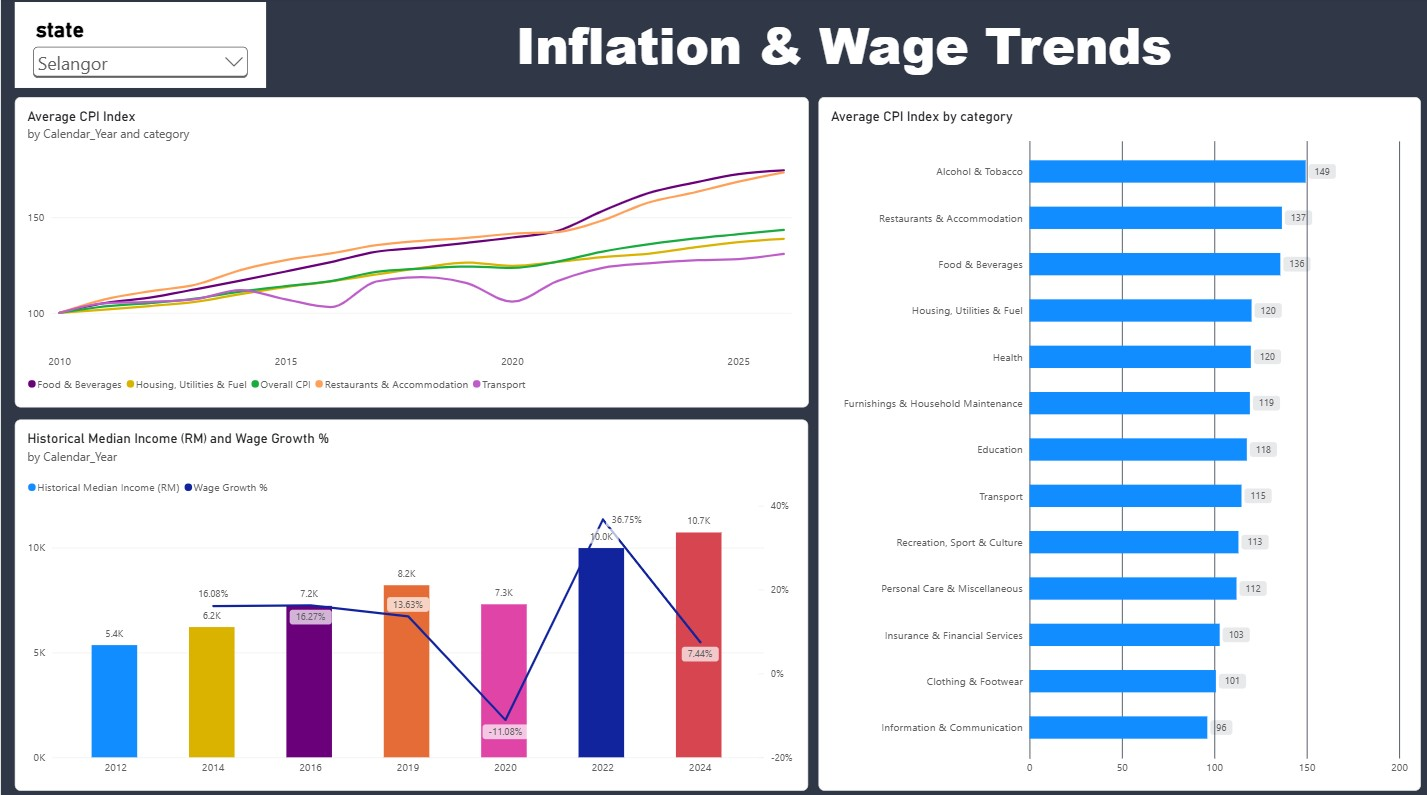

The dashboard page shown, as its layout file describes it:
{"tool":"powerbi","page":{"name":"Inflation & Wage Trends","canvas":[1920,1080],"ordinal":1},"visuals":[{"type":"slicer","fields":{"Values":["clean_dim_states.state"]},"box":[18.4,6.7,336.7,115.6],"z":0},{"type":"lineClusteredColumnComboChart","fields":{"Category":["Dim_Calendar.Calendar_Year"],"Y":["clean_fact_income_history.Historical Median Income (RM)"],"Y2":["clean_fact_income_history.Wage Growth %"]},"box":[18.4,566.1,1063.6,497.5],"z":1000},{"type":"lineChart","fields":{"Category":["Dim_Calendar.Calendar_Year"],"Series":["clean_fact_cpi_annual.category"],"Y":["clean_fact_cpi_annual.Average CPI Index"]},"box":[18.4,134,1063.7,415.8],"z":2000},{"type":"clusteredBarChart","fields":{"Category":["clean_fact_cpi_annual.category"],"Y":["clean_fact_cpi_annual.Average CPI Index"]},"box":[1095.4,134,807.3,929.6],"z":3000},{"type":"textbox","title":"Inflation & Wage Trends","box":[354.5,17,1548.4,98.4],"z":4000}]}

Visuals, with their boxes in screenshot pixels (x1, y1, x2, y2), scaled from the page's 1920x1080 canvas onto the 1427x795 screenshot:
slicer - clean_dim_states.state: (14,5,264,90)
lineClusteredColumnComboChart - Dim_Calendar.Calendar_Year x clean_fact_income_history.Historical Median Income (RM): (14,417,804,783)
lineChart - Dim_Calendar.Calendar_Year x clean_fact_cpi_annual.category: (14,99,804,405)
clusteredBarChart - clean_fact_cpi_annual.category x clean_fact_cpi_annual.Average CPI Index: (814,99,1414,783)
"Inflation & Wage Trends" textbox: (263,13,1414,85)
